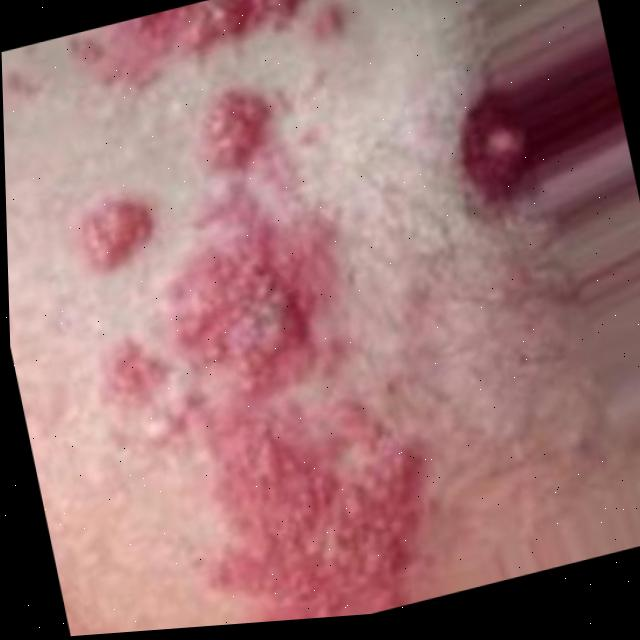Shingles: (162, 173, 423, 628), (103, 0, 304, 88), (74, 194, 157, 273), (199, 81, 277, 163)
